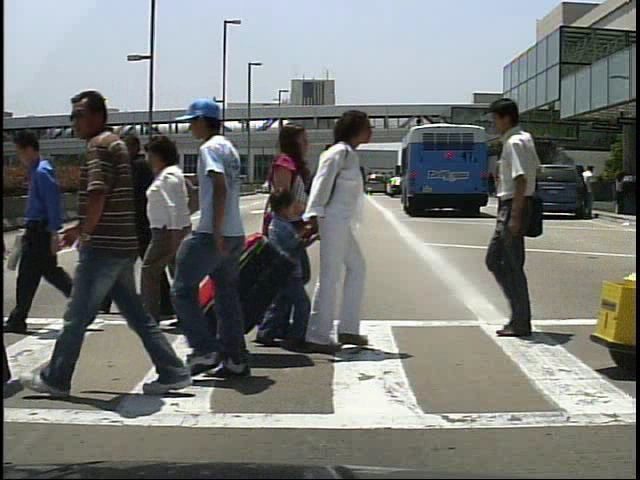person: (31, 84, 212, 408), (179, 105, 287, 388), (473, 90, 572, 338), (301, 103, 383, 356), (10, 122, 95, 339), (259, 120, 326, 360), (105, 130, 178, 322), (136, 134, 201, 327), (261, 180, 308, 356), (582, 164, 602, 218), (498, 166, 516, 219), (506, 165, 525, 215)
